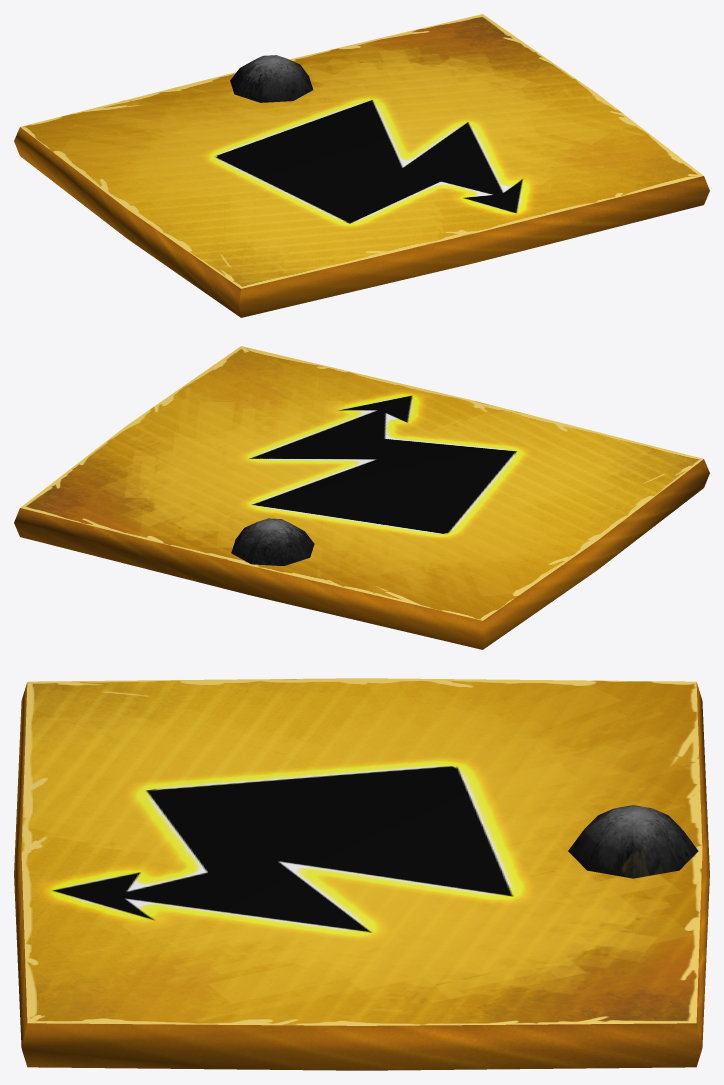
Rendered from poster.fbx.
The picture shows the model from 3 angles, top to bottom: view 1: azimuth 30°, elevation 25°; view 2: azimuth 150°, elevation 25°; view 3: azimuth 270°, elevation 25°; orthographic projection. The views are drawn at different scales.
Parts seen in each view (by area): view 1: pCube1, pSphere1; view 2: pCube1, pSphere1; view 3: pCube1, pSphere1.
Boxes of the visible parts, left/top/right/bottom form: pCube1: left=14, top=14, right=709, bottom=317; pSphere1: left=230, top=55, right=313, bottom=102; pCube1: left=14, top=346, right=709, bottom=649; pSphere1: left=231, top=518, right=314, bottom=566; pCube1: left=14, top=678, right=709, bottom=1070; pSphere1: left=568, top=805, right=698, bottom=878.
Bounding box in the file's own units: 11.54 × 1.29 × 9.55.
